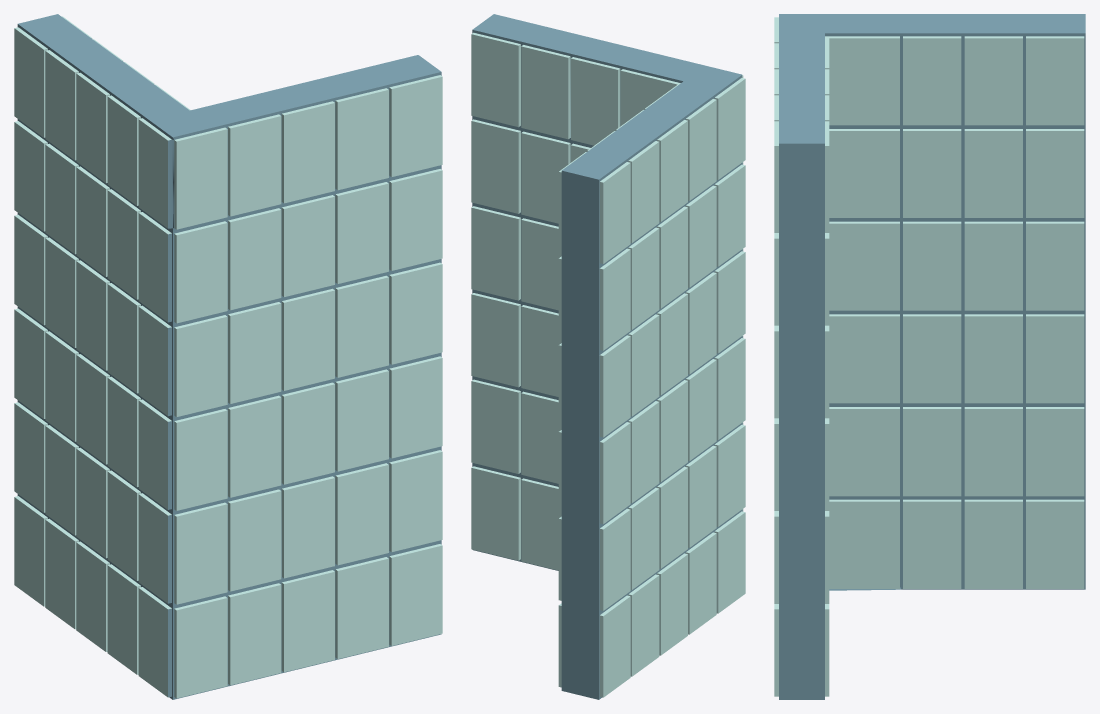
Rendered from BathroomTilesCorner.glb.
3 renders of one model, left to right at view 1: azimuth 30°, elevation 25°; view 2: azimuth 150°, elevation 25°; view 3: azimuth 270°, elevation 25°, orthographic. The views are drawn at different scales.
Parts seen in each view (by area): view 1: wall_bathroomTiles_corner; view 2: wall_bathroomTiles_corner; view 3: wall_bathroomTiles_corner.
Part boxes in pixels (x1,y1,x2,y2): wall_bathroomTiles_corner: (14,14,442,699); wall_bathroomTiles_corner: (471,14,745,699); wall_bathroomTiles_corner: (774,14,1085,699).
Size of what is drawn, in the model's own units: 2.03 by 4 by 2.03.
Materials: 1 (1 with a texture image).
